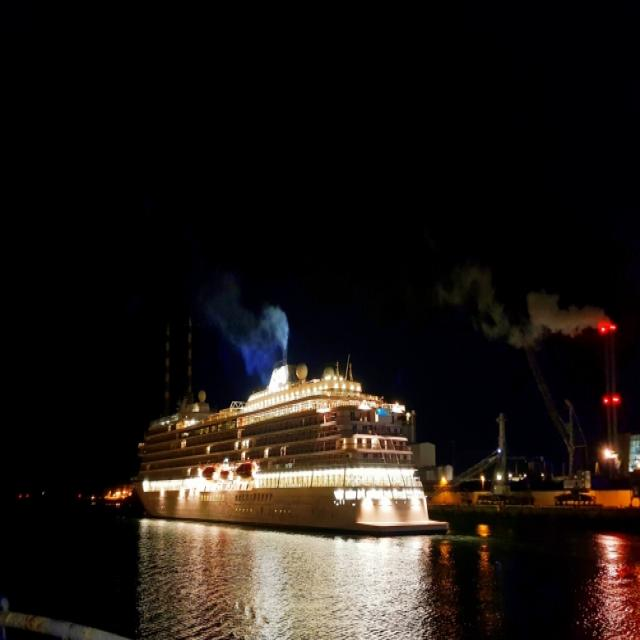cruises: (125, 346, 454, 550)
